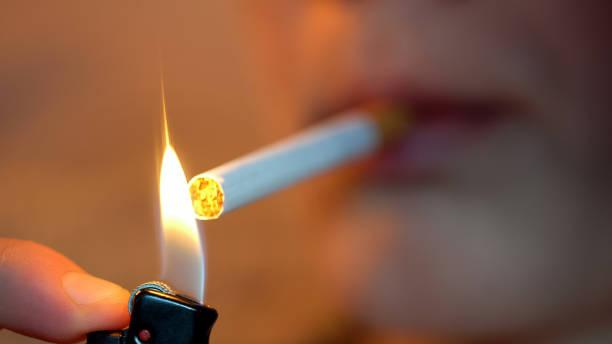Fire: (152, 71, 206, 302)
